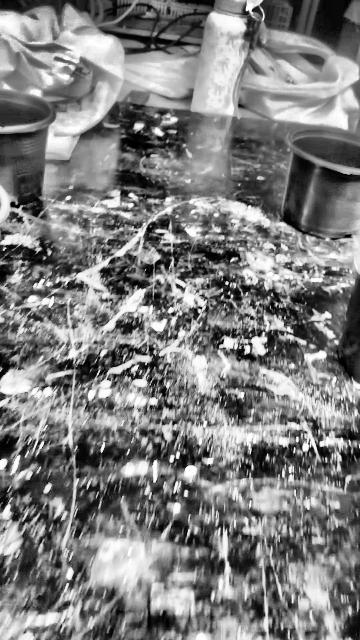pot: (282, 128, 359, 239), (0, 91, 55, 204)
